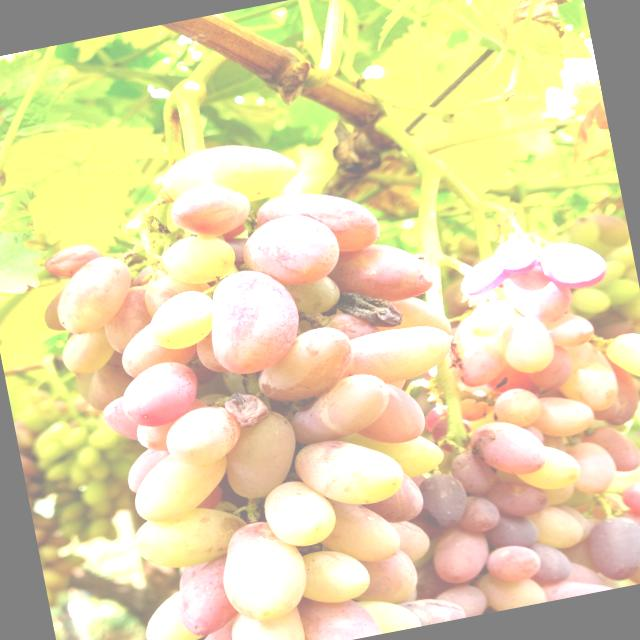grapes: (198, 262, 306, 378), (156, 133, 299, 220), (255, 180, 382, 268), (214, 518, 312, 626), (294, 428, 406, 515), (250, 321, 360, 406), (127, 501, 249, 576), (237, 208, 342, 292), (216, 408, 304, 504), (339, 318, 453, 392), (286, 370, 394, 448), (130, 448, 234, 528), (330, 238, 436, 310), (50, 252, 138, 336), (316, 492, 402, 570), (348, 419, 446, 487), (118, 358, 205, 430), (260, 476, 341, 552), (168, 559, 243, 640), (547, 338, 621, 418), (349, 377, 428, 451), (163, 180, 254, 244), (159, 402, 244, 470), (116, 316, 202, 381), (292, 543, 372, 611), (144, 286, 220, 354), (96, 284, 164, 356), (472, 416, 546, 481), (158, 230, 238, 290), (501, 264, 573, 327), (368, 292, 450, 346), (581, 512, 640, 586), (303, 588, 384, 640), (584, 356, 640, 429), (136, 587, 211, 640), (526, 388, 598, 443), (356, 471, 426, 527), (497, 313, 558, 377), (428, 526, 492, 587), (543, 236, 610, 294), (511, 440, 582, 494), (474, 562, 546, 614), (360, 548, 422, 608), (453, 333, 516, 387), (418, 469, 470, 532), (585, 419, 640, 478), (566, 436, 618, 497), (356, 590, 422, 638), (390, 590, 467, 631), (227, 601, 307, 640), (56, 328, 115, 380), (527, 502, 586, 553), (484, 540, 544, 588), (490, 476, 550, 520), (600, 328, 640, 393), (446, 446, 496, 498), (522, 539, 574, 589), (540, 570, 620, 602), (521, 343, 572, 392), (484, 511, 540, 555), (491, 385, 545, 430), (286, 275, 342, 318), (456, 254, 512, 297), (122, 447, 174, 492), (465, 298, 517, 341), (436, 580, 489, 622), (544, 309, 596, 351), (171, 615, 257, 640), (36, 286, 80, 334), (320, 308, 378, 344), (392, 515, 432, 567), (99, 396, 142, 444), (615, 504, 640, 586), (488, 236, 540, 272), (133, 416, 182, 454), (456, 494, 502, 534), (507, 257, 552, 294), (562, 556, 608, 592), (602, 278, 640, 306), (622, 473, 640, 524), (544, 480, 578, 506), (621, 297, 640, 321), (626, 266, 640, 297)
